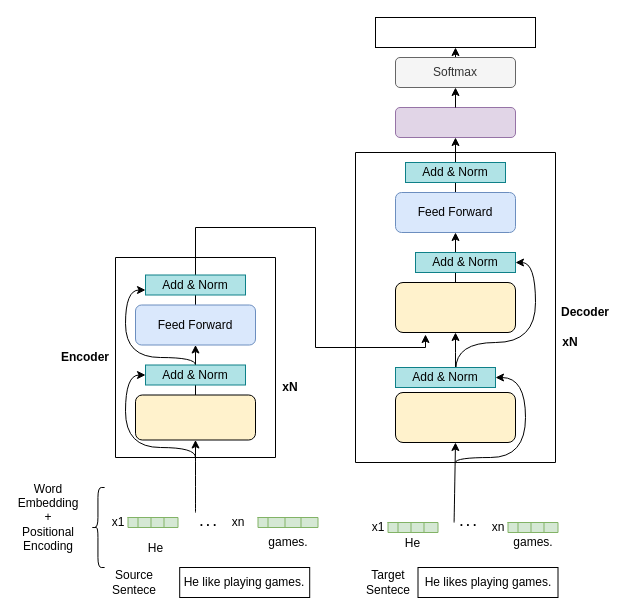
Image size: 632x615. Some labels were removed from this diagram. The shapes that lost their labels are listed below. From the top down, each one's centre as x and y in pixels, then its label:
(455,32): Output
(455,122): Linear
(455,307): Multi-Head Attendion
(195,417): Multi-Head Attention
(455,417): Masked Multi-Head Attendion
